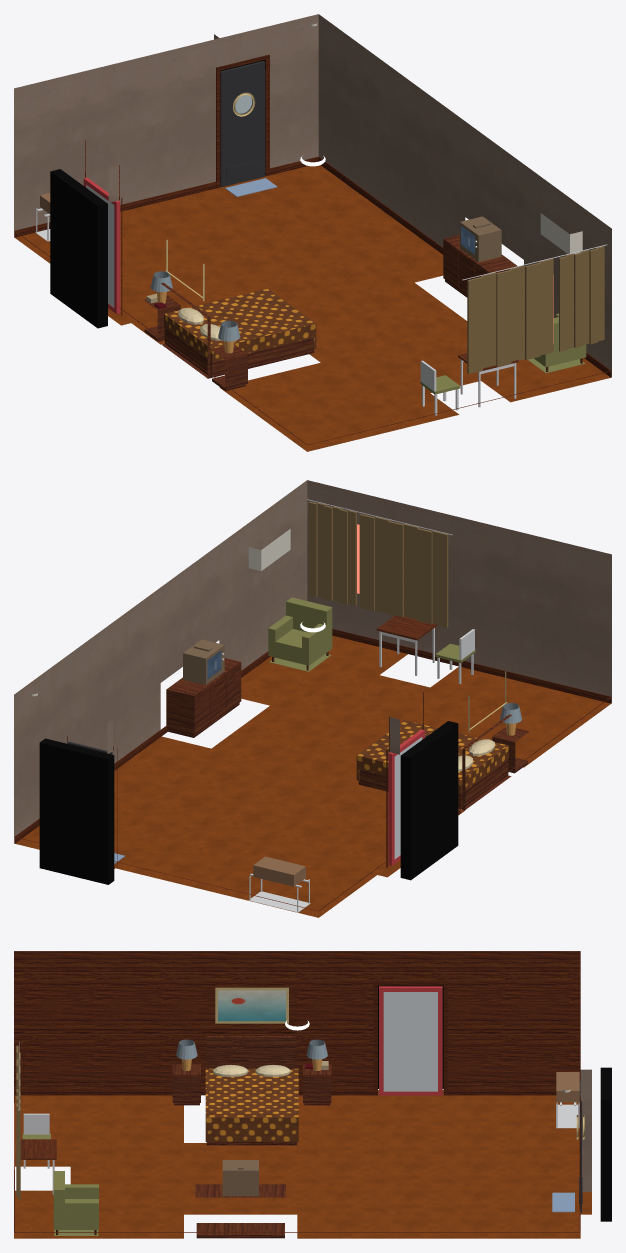
Rendered from rdwe_motel_room.glb.
The picture shows the model from 3 angles, top to bottom: view 1: azimuth 30°, elevation 25°; view 2: azimuth 150°, elevation 25°; view 3: azimuth 270°, elevation 25°; orthographic projection. The views are drawn at different scales.
Visible parts, largest first — view 1: Plaster_Peach, Carpet_Shag, Curtain_Orange, Void_Black, Wood_Dark, Bedspread, DoorLeaf_bathroom, Trim_Wood, DoorLeaf_drum, Chrome, Velvet_Mustard, Plastic_Brown (+3 smaller); view 2: Plaster_Peach, Carpet_Shag, Void_Black, Curtain_Orange, Wood_Dark, Velvet_Mustard, Trim_Wood, Bedspread, Chrome, DoorLeaf_drum, Plastic_Brown, Leather_Brown (+2 smaller); view 3: Carpet_Shag, Panel_Wood, Wood_Dark, DoorLeaf_drum, Bedspread, Trim_Wood, Velvet_Mustard, Void_Black, Paintings, Plaster_Peach, Chrome, Plastic_Brown (+8 smaller).
Boxes of the visible parts, bbox=[...] form: Plaster_Peach: bbox=[14, 14, 611, 377]; Carpet_Shag: bbox=[14, 165, 611, 451]; Curtain_Orange: bbox=[467, 246, 604, 373]; Void_Black: bbox=[50, 60, 265, 328]; Wood_Dark: bbox=[143, 235, 582, 390]; Bedspread: bbox=[164, 288, 316, 362]; DoorLeaf_bathroom: bbox=[220, 61, 264, 187]; Trim_Wood: bbox=[14, 54, 611, 445]; DoorLeaf_drum: bbox=[83, 177, 120, 313]; Chrome: bbox=[35, 208, 607, 415]; Velvet_Mustard: bbox=[420, 313, 586, 394]; Plastic_Brown: bbox=[460, 216, 501, 261]; Plaster_Peach: bbox=[14, 480, 611, 843]; Carpet_Shag: bbox=[14, 635, 611, 917]; Void_Black: bbox=[39, 721, 458, 884]; Curtain_Orange: bbox=[308, 501, 448, 627]; Wood_Dark: bbox=[166, 651, 529, 814]; Velvet_Mustard: bbox=[268, 597, 475, 671]; Trim_Wood: bbox=[14, 628, 611, 911]; Bedspread: bbox=[356, 720, 508, 793]; Chrome: bbox=[222, 499, 474, 912]; DoorLeaf_drum: bbox=[388, 729, 424, 865]; Plastic_Brown: bbox=[183, 639, 224, 685]; Leather_Brown: bbox=[253, 856, 305, 886]; Carpet_Shag: bbox=[14, 1090, 591, 1238]; Panel_Wood: bbox=[14, 951, 580, 1088]; Wood_Dark: bbox=[56, 1036, 331, 1238]; DoorLeaf_drum: bbox=[379, 986, 442, 1095]; Bedspread: bbox=[205, 1068, 298, 1141]; Trim_Wood: bbox=[14, 981, 580, 1232]; Velvet_Mustard: bbox=[22, 1133, 98, 1235]; Void_Black: bbox=[378, 985, 611, 1221]; Paintings: bbox=[218, 990, 285, 1021]; Plaster_Peach: bbox=[14, 951, 591, 1191]; Chrome: bbox=[18, 1042, 579, 1194]; Plastic_Brown: bbox=[222, 1160, 258, 1196].
Size of the model in its own units: 6.55 by 2.87 by 10.55.
31 materials, 16 textured.
